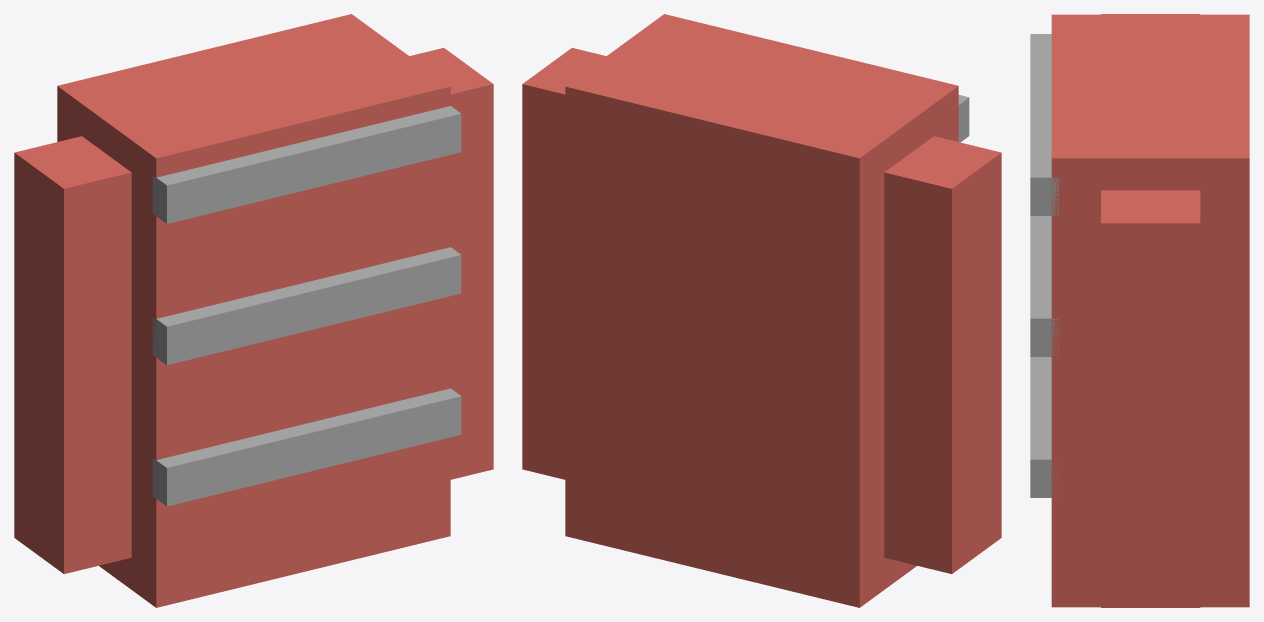
The model's file is puffer_jacket.glb.
3 views of the same model, side by side, from view 1: azimuth 30°, elevation 25°; view 2: azimuth 150°, elevation 25°; view 3: azimuth 270°, elevation 25° (orthographic).
Visible parts, largest first — view 1: garment, sleeve_l, sleeve_r, ridge0, ridge1, ridge2; view 2: garment, sleeve_l, sleeve_r; view 3: garment, sleeve_r, ridge2, ridge1, ridge0.
Part boxes in pixels (x1,y1,x2,y2): garment: (57, 14, 450, 607); sleeve_l: (14, 136, 131, 573); sleeve_r: (409, 48, 493, 479); ridge0: (152, 388, 461, 506); ridge1: (152, 247, 461, 365); ridge2: (152, 106, 461, 223); garment: (565, 14, 958, 607); sleeve_l: (884, 136, 1001, 573); sleeve_r: (522, 48, 606, 479); garment: (1051, 14, 1249, 607); sleeve_r: (1101, 190, 1200, 607); ridge2: (1030, 34, 1058, 215); ridge1: (1030, 216, 1058, 356); ridge0: (1030, 357, 1058, 497).
Size of the model in its own units: 0.7001 by 0.7002 by 0.3099.
